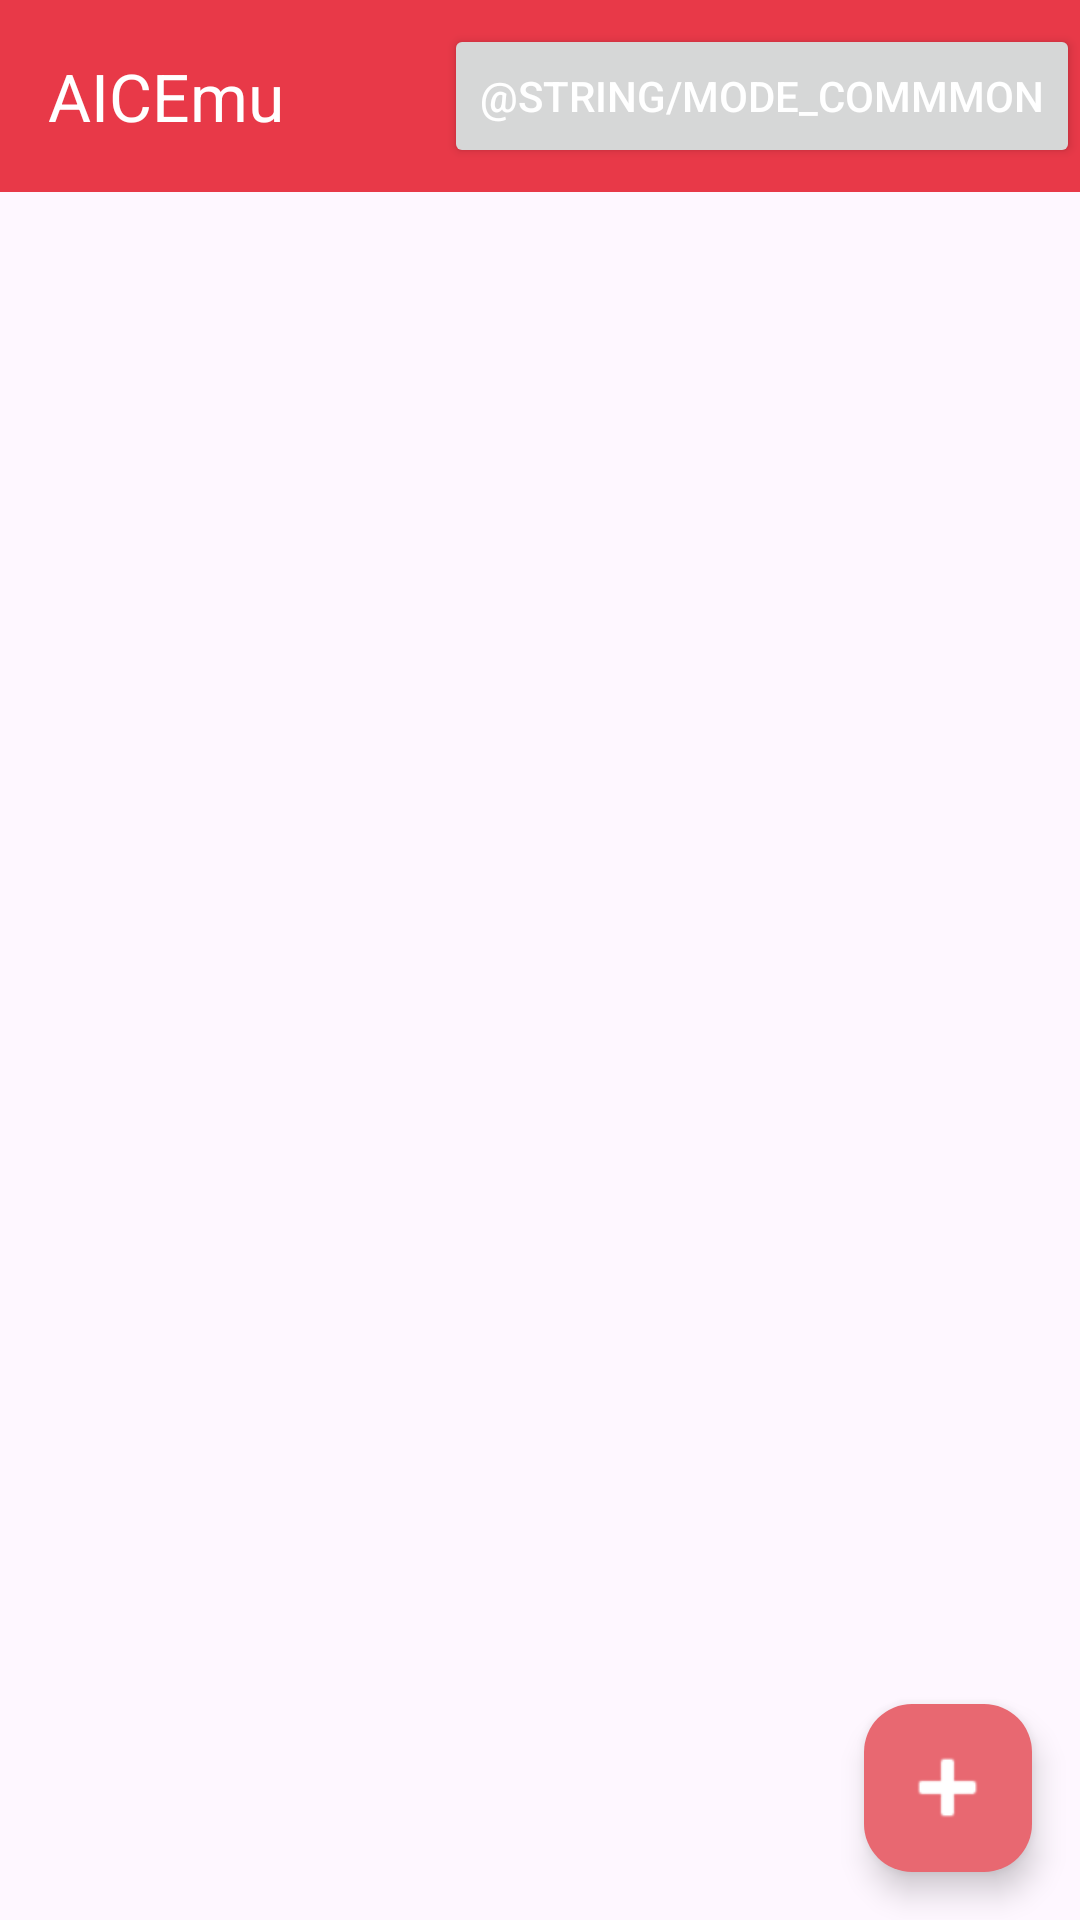

Point at icon controls on the screen. Image size 1080w x 1920h, points as [x,y].
add card: [948,1788]
